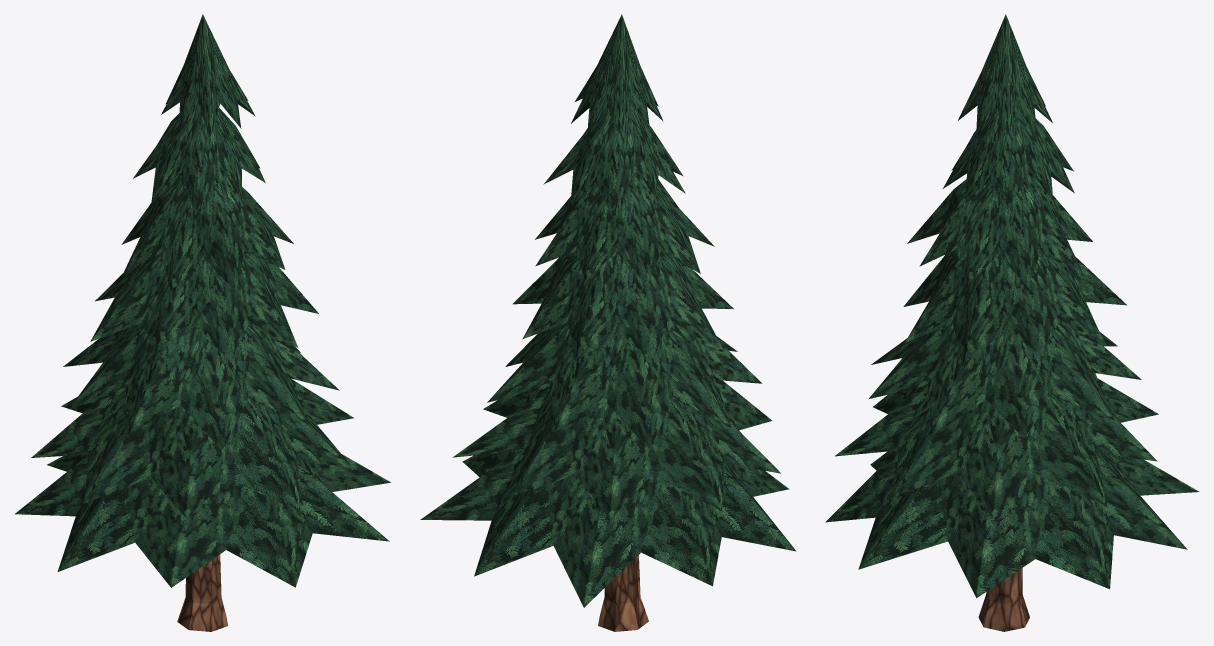
File: pine.glb
The picture shows the model from 3 angles, left to right: view 1: azimuth 30°, elevation 25°; view 2: azimuth 150°, elevation 25°; view 3: azimuth 270°, elevation 25°; orthographic projection.
Visible parts, largest first — view 1: Pine; view 2: Pine; view 3: Pine.
Part boxes in pixels (x1,y1,x2,y2): Pine: (15,14,390,631); Pine: (420,14,796,631); Pine: (825,14,1199,631).
Bounding box in the file's own units: 4.95 × 8.61 × 4.82.
Materials: 2 (2 with a texture image).
